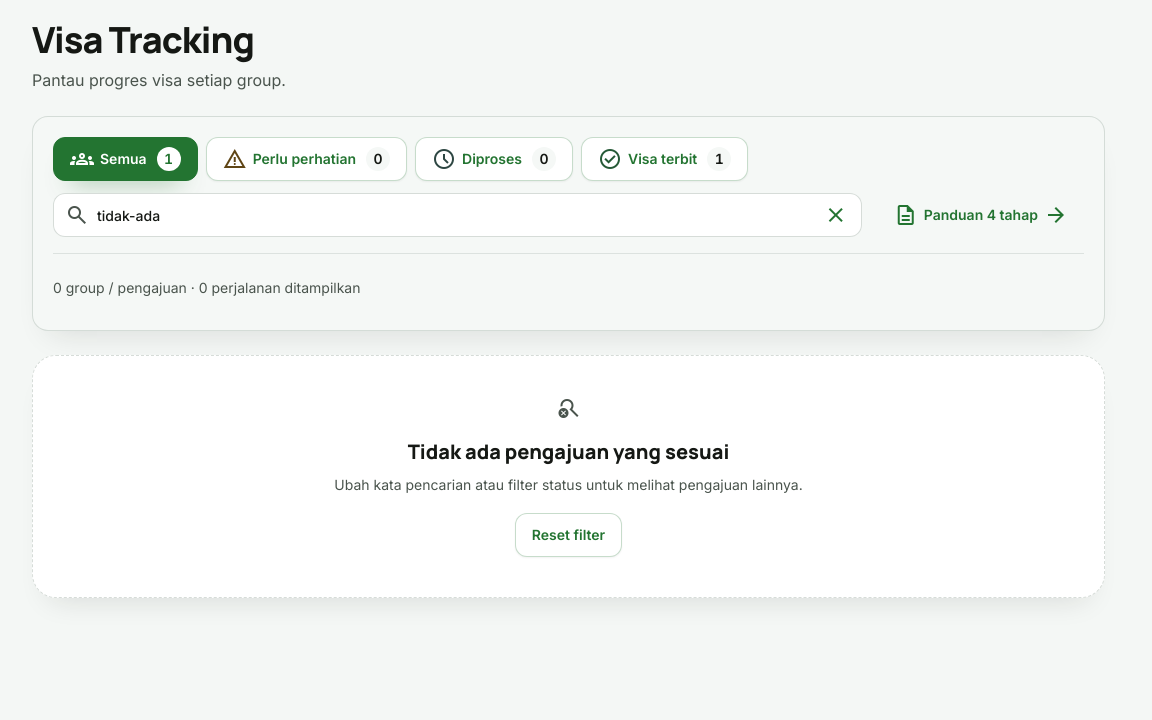
Test case: Portal Agent Visa Tracking › handles a long group identity and empty filter result
Expected: the heading "Tidak ada pengajuan yang sesuai" is shown, x1=408 y1=438 x2=729 y2=465
Step 1. Click the button "Reset filter" → (568, 535), box x1=515 y1=513 x2=622 y2=557
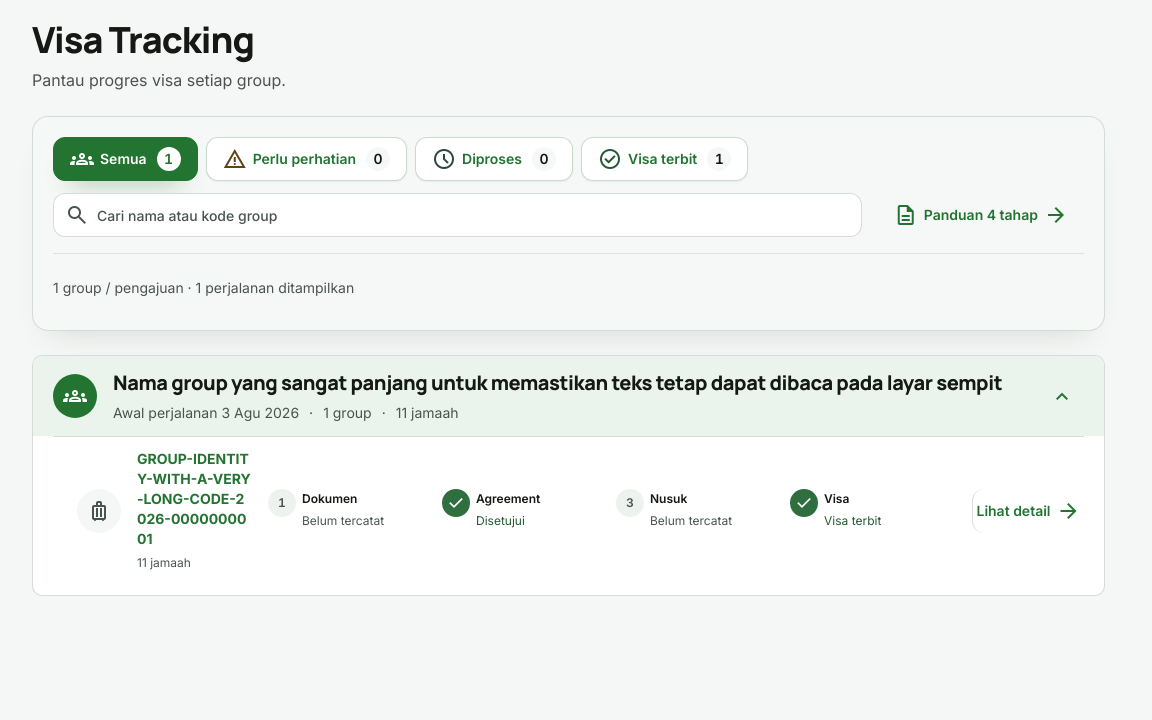
Result: the text "GROUP-IDENTITY-WITH-A-VERY-LONG-CODE-2026-0000000001" is shown at x1=137 y1=449 x2=252 y2=549
